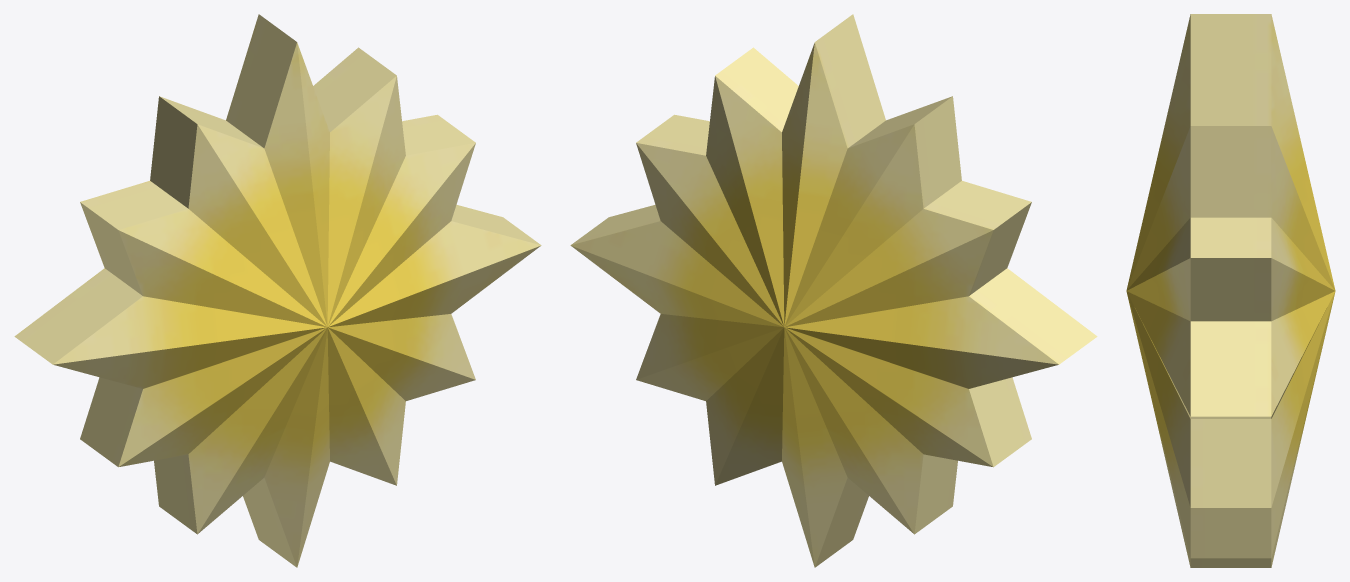
File: CheckpointParticle.fbx
3 renders of one model, left to right at view 1: azimuth 30°, elevation 25°; view 2: azimuth 150°, elevation 25°; view 3: azimuth 270°, elevation 25°, orthographic. The views are drawn at different scales.
Visible parts, largest first — view 1: GrowParticle_Mesh.001; view 2: GrowParticle_Mesh.001; view 3: GrowParticle_Mesh.001.
Part boxes in pixels (x1,y1,x2,y2): GrowParticle_Mesh.001: (14, 14, 541, 567); GrowParticle_Mesh.001: (570, 14, 1097, 567); GrowParticle_Mesh.001: (1126, 14, 1335, 567).
Size of the model in its own units: 34.96 by 35.93 by 12.29.
